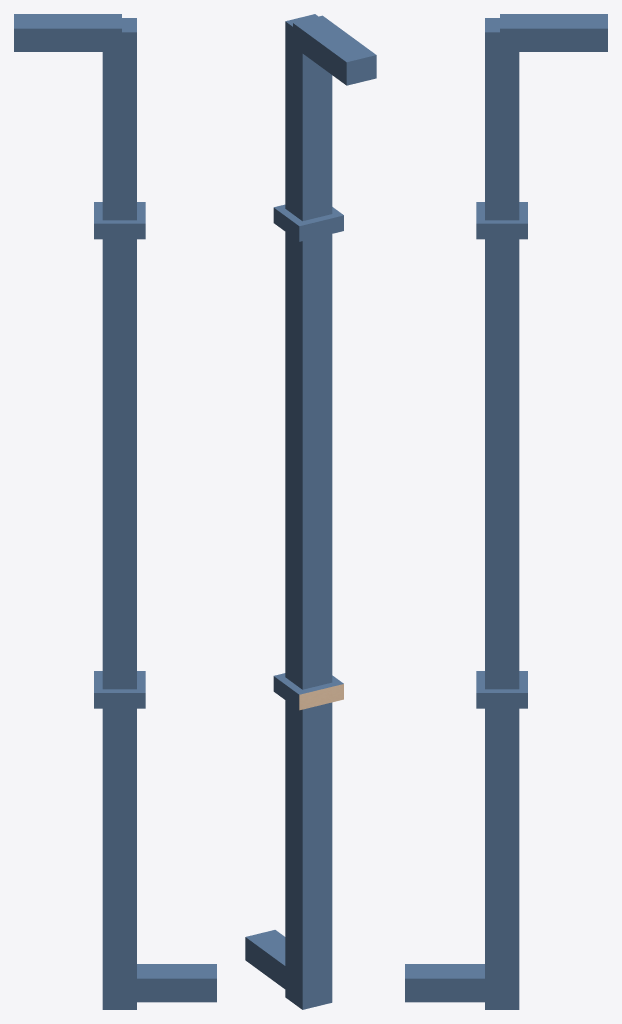
Rendered from Downpipe.fbx.
3 renders of one model, left to right at view 1: azimuth 90°, elevation 25°; view 2: azimuth 210°, elevation 25°; view 3: azimuth 270°, elevation 25°, orthographic.
Visible parts, largest first — view 1: Downpipe; view 2: Downpipe; view 3: Downpipe.
Part boxes in pixels (x1,y1,x2,y2): Downpipe: (14,14,216,1009); Downpipe: (245,14,376,1009); Downpipe: (405,14,607,1009).
Bounding box in the file's own units: 0.12 × 2.51 × 0.47.
Materials: 1 (1 with a texture image).
